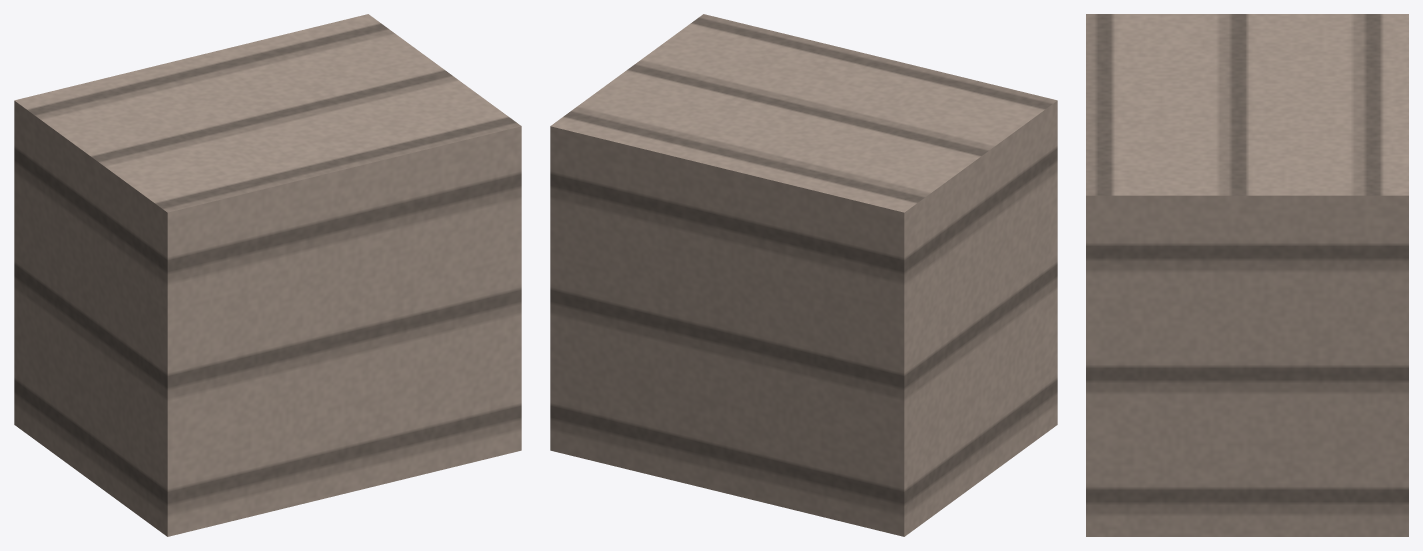
Rendered from taxidermy_wall_mount.glb.
The picture shows the model from 3 angles, left to right: view 1: azimuth 30°, elevation 25°; view 2: azimuth 150°, elevation 25°; view 3: azimuth 270°, elevation 25°; orthographic projection. The views are drawn at different scales.
Visible parts, largest first — view 1: taxidermy_wall_mount-col; view 2: taxidermy_wall_mount-col; view 3: taxidermy_wall_mount-col.
Part boxes in pixels (<box>): taxidermy_wall_mount-col: <box>14,14,521,536</box>; taxidermy_wall_mount-col: <box>550,14,1057,536</box>; taxidermy_wall_mount-col: <box>1086,14,1408,536</box>.
Bounding box in the file's own units: 0.4 × 0.35 × 0.3.
Materials: 1 (1 with a texture image).
